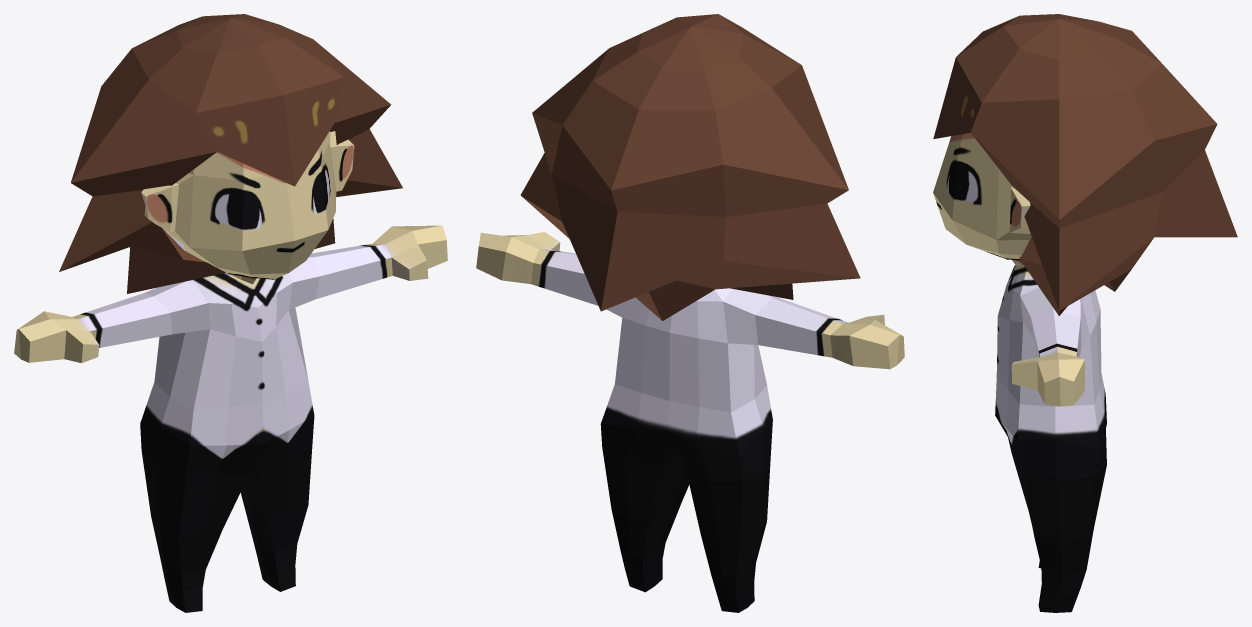
Rendered from camil_personaje2.fbx.
The picture shows the model from 3 angles, left to right: view 1: azimuth 30°, elevation 25°; view 2: azimuth 150°, elevation 25°; view 3: azimuth 270°, elevation 25°; orthographic projection.
Visible parts, largest first — view 1: cuerpo, Sphere; view 2: Sphere, cuerpo; view 3: Sphere, cuerpo.
Boxes of the visible parts, left/top/right/bottom form: cuerpo: left=14, top=131, right=447, bottom=612; Sphere: left=59, top=14, right=402, bottom=293; Sphere: left=520, top=14, right=860, bottom=320; cuerpo: left=476, top=232, right=904, bottom=612; Sphere: left=933, top=14, right=1237, bottom=315; cuerpo: left=933, top=133, right=1106, bottom=612.
Size of the model in its own units: 247 by 321 by 156.
2 materials, 2 textured.
